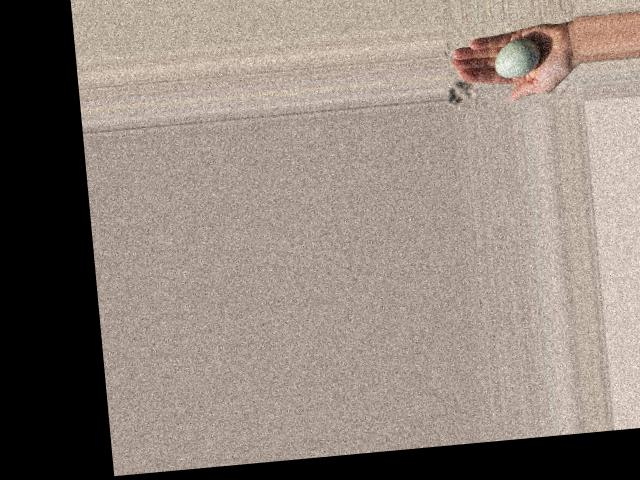egg: (491, 36, 540, 78)
